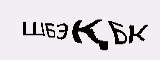Б: (108, 13, 128, 45), (44, 17, 56, 43)
К: (126, 15, 149, 48)
Ш: (19, 18, 45, 37)
Э: (55, 18, 69, 43)
Қ: (71, 12, 112, 51)
